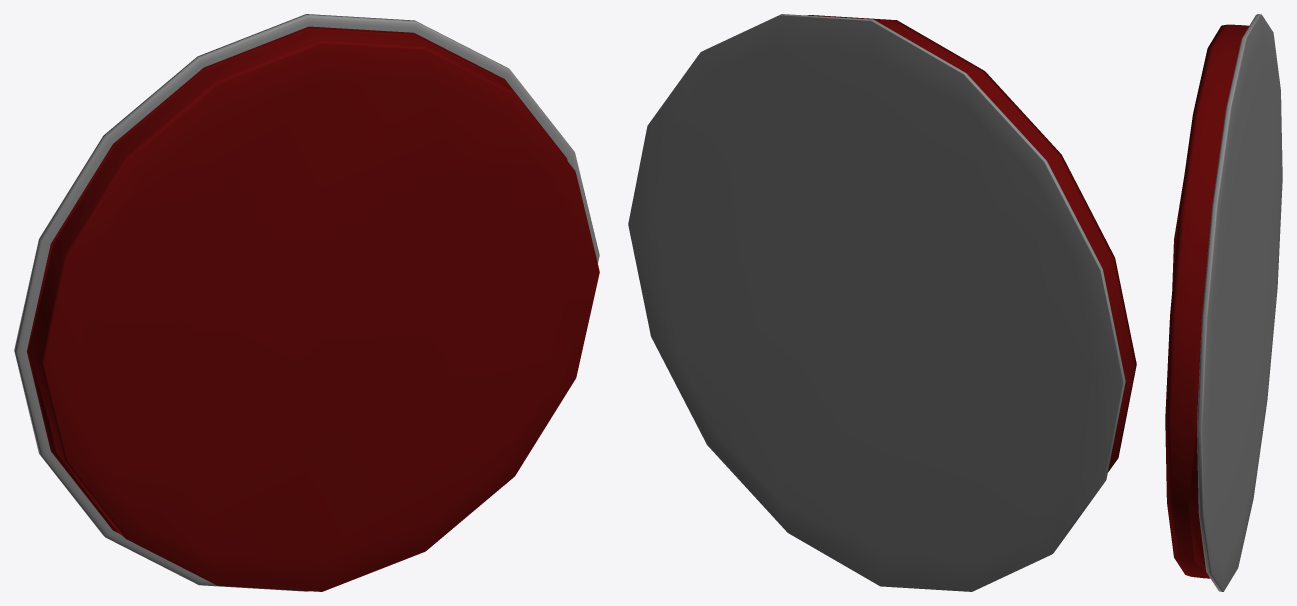
File: Button.fbx
3 views of the same model, side by side, from view 1: azimuth 30°, elevation 25°; view 2: azimuth 150°, elevation 25°; view 3: azimuth 270°, elevation 25° (orthographic). The views are drawn at different scales.
Parts seen in each view (by area): view 1: pCube1; view 2: pCube1; view 3: pCube1.
Boxes of the visible parts, x1,y1,x2,y2 form: pCube1: [14, 14, 599, 591]; pCube1: [628, 14, 1136, 591]; pCube1: [1165, 14, 1282, 591].
Bounding box in the file's own units: 0.9545 × 0.9625 × 0.1926.
